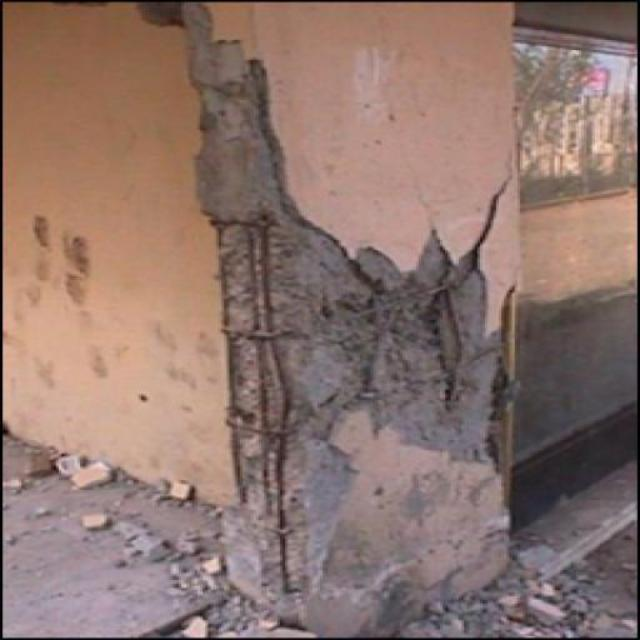D0w0: (190, 14, 513, 596)
